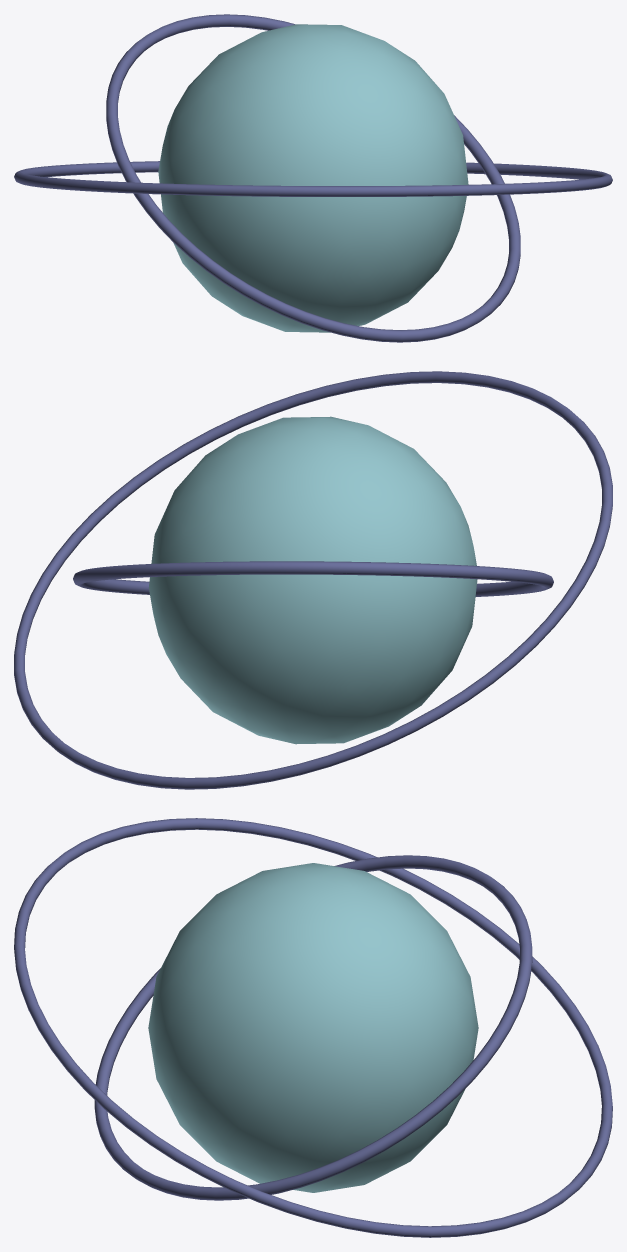
Rendered from asset.glb.
3 views of the same model, one above another, from view 1: azimuth 30°, elevation 25°; view 2: azimuth 150°, elevation 25°; view 3: azimuth 270°, elevation 25° (orthographic). The views are drawn at different scales.
Visible parts, largest first — view 1: CoreMesh, ArcInner, ArcOuter; view 2: CoreMesh, ArcOuter, ArcInner; view 3: CoreMesh, ArcOuter, ArcInner.
Boxes of the visible parts, left/top/right/bottom form: CoreMesh: left=158, top=24, right=468, bottom=332; ArcInner: left=106, top=14, right=520, bottom=342; ArcOuter: left=14, top=161, right=612, bottom=196; CoreMesh: left=148, top=416, right=477, bottom=744; ArcOuter: left=14, top=371, right=612, bottom=789; ArcInner: left=73, top=561, right=553, bottom=596; CoreMesh: left=148, top=863, right=478, bottom=1192; ArcOuter: left=14, top=818, right=612, bottom=1237; ArcInner: left=94, top=855, right=532, bottom=1200.
Size of the model in its own units: 1.36 by 0.72 by 1.31.
